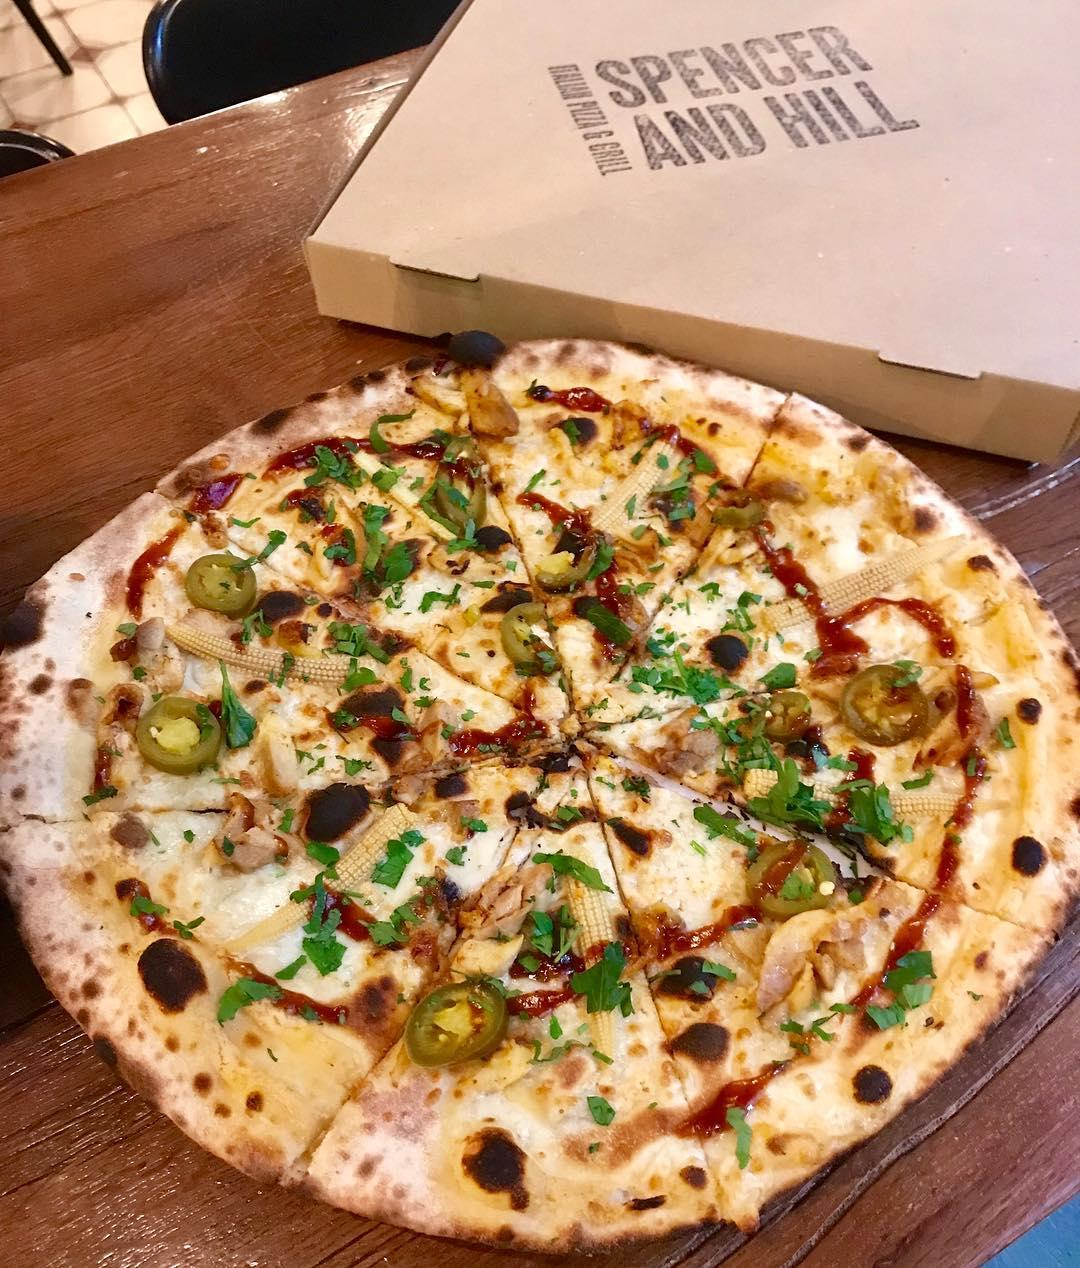Chicken: (750, 914, 883, 1024), (215, 801, 288, 870), (256, 716, 301, 799), (466, 379, 520, 435), (403, 374, 466, 412)
Peppers: (407, 987, 507, 1068), (842, 661, 932, 750), (138, 693, 224, 769), (750, 844, 840, 911), (438, 437, 487, 527), (185, 552, 255, 614), (760, 689, 809, 737), (504, 605, 543, 659), (540, 548, 595, 587), (707, 502, 766, 528)
Pizza: (0, 302, 1080, 1258)
